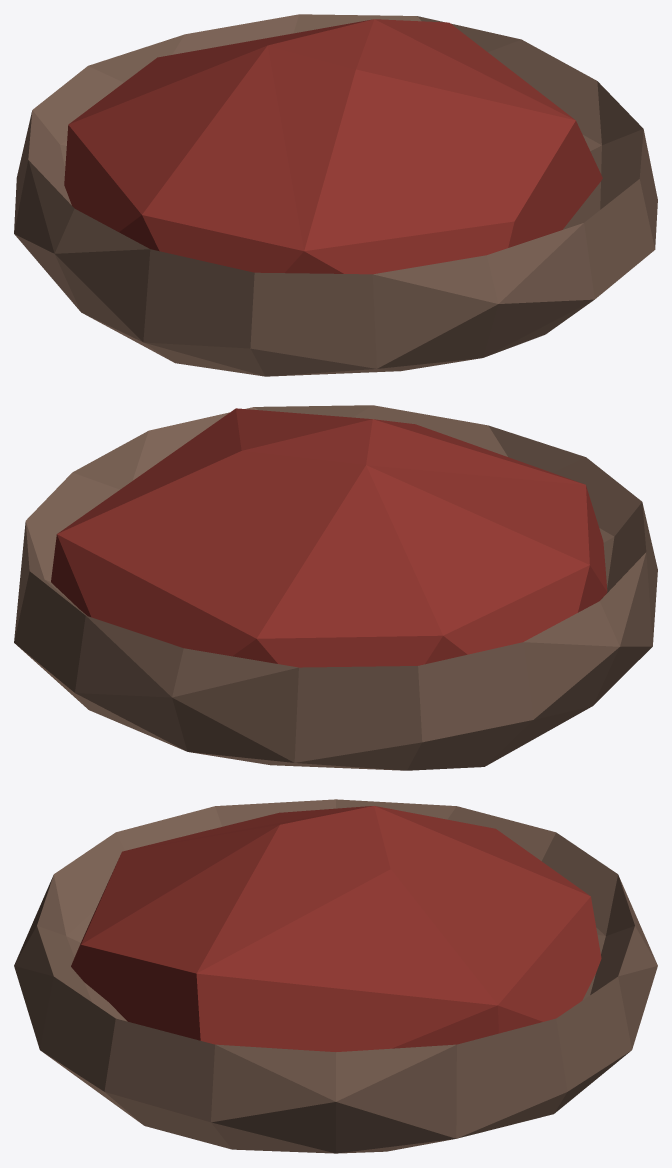
File: plate of saffron.glb
3 renders of one model, top to bottom at view 1: azimuth 30°, elevation 25°; view 2: azimuth 150°, elevation 25°; view 3: azimuth 270°, elevation 25°, orthographic.
Visible parts, largest first — view 1: Cube.001, Cube; view 2: Cube.001, Cube; view 3: Cube.001, Cube.
Boxes of the visible parts, x1=… form: Cube.001: x1=64, y1=19, x2=602, y2=274; Cube: x1=14, y1=14, x2=657, y2=376; Cube.001: x1=51, y1=408, x2=607, y2=667; Cube: x1=14, y1=405, x2=657, y2=770; Cube.001: x1=71, y1=806, x2=601, y2=1051; Cube: x1=14, y1=799, x2=657, y2=1153.
Size of the model in its own units: 0.1724 by 0.0734 by 0.1724.
